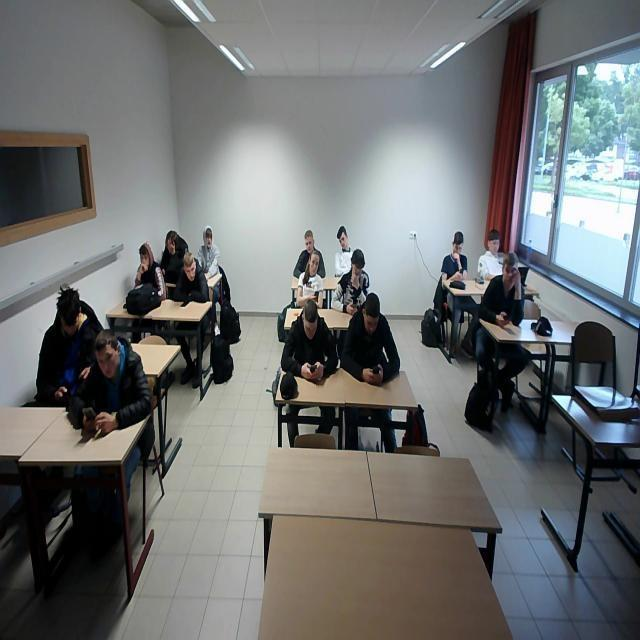phone_use: (68, 328, 149, 434), (34, 286, 101, 403), (340, 292, 398, 383), (283, 299, 336, 381), (478, 252, 522, 324), (338, 248, 367, 312), (294, 250, 321, 305), (159, 230, 186, 282), (440, 230, 465, 279)
